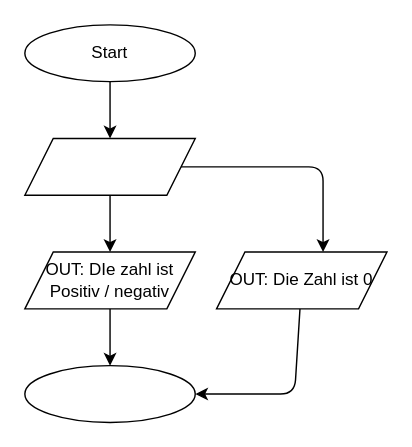
Some shapes in this 412 by 447 pixel diagram are drawn without their labels. Each missing label, with the centre of its shape:
"Ende" goes at point (109, 393).
"IN: Zahl eingeben" goes at point (109, 166).
